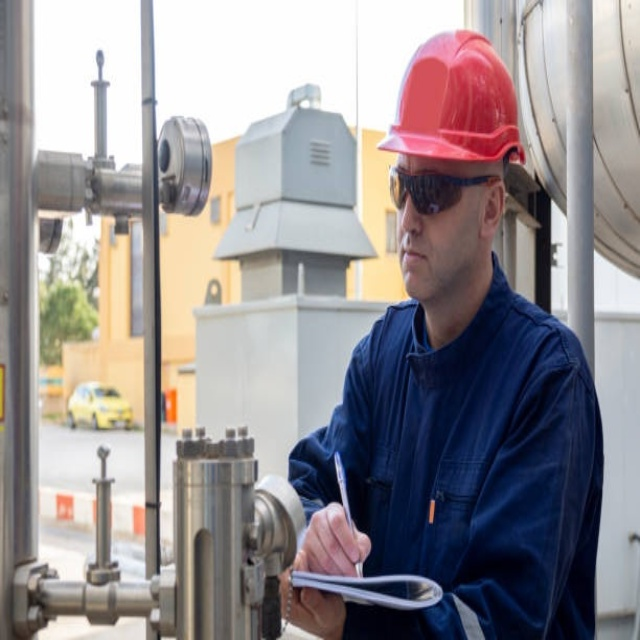Gafas: (388, 162, 500, 210)
Sin_guantes: (279, 500, 374, 634)
Sin_mascara: (395, 232, 431, 295)
